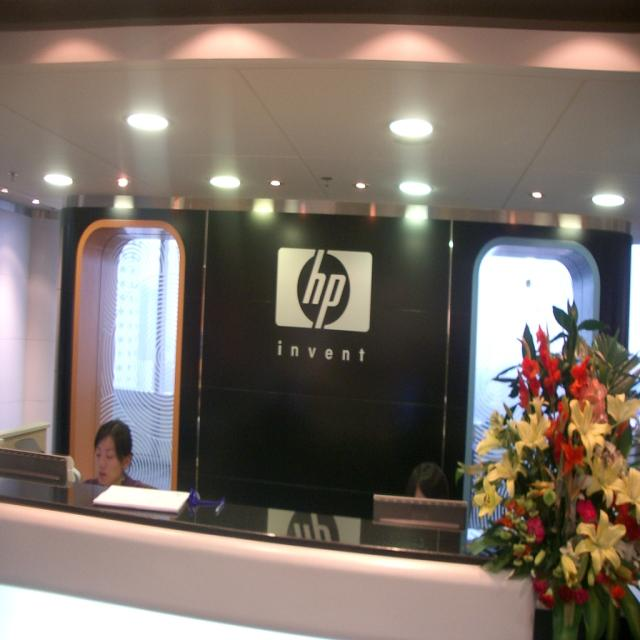HP: (275, 247, 376, 336)
